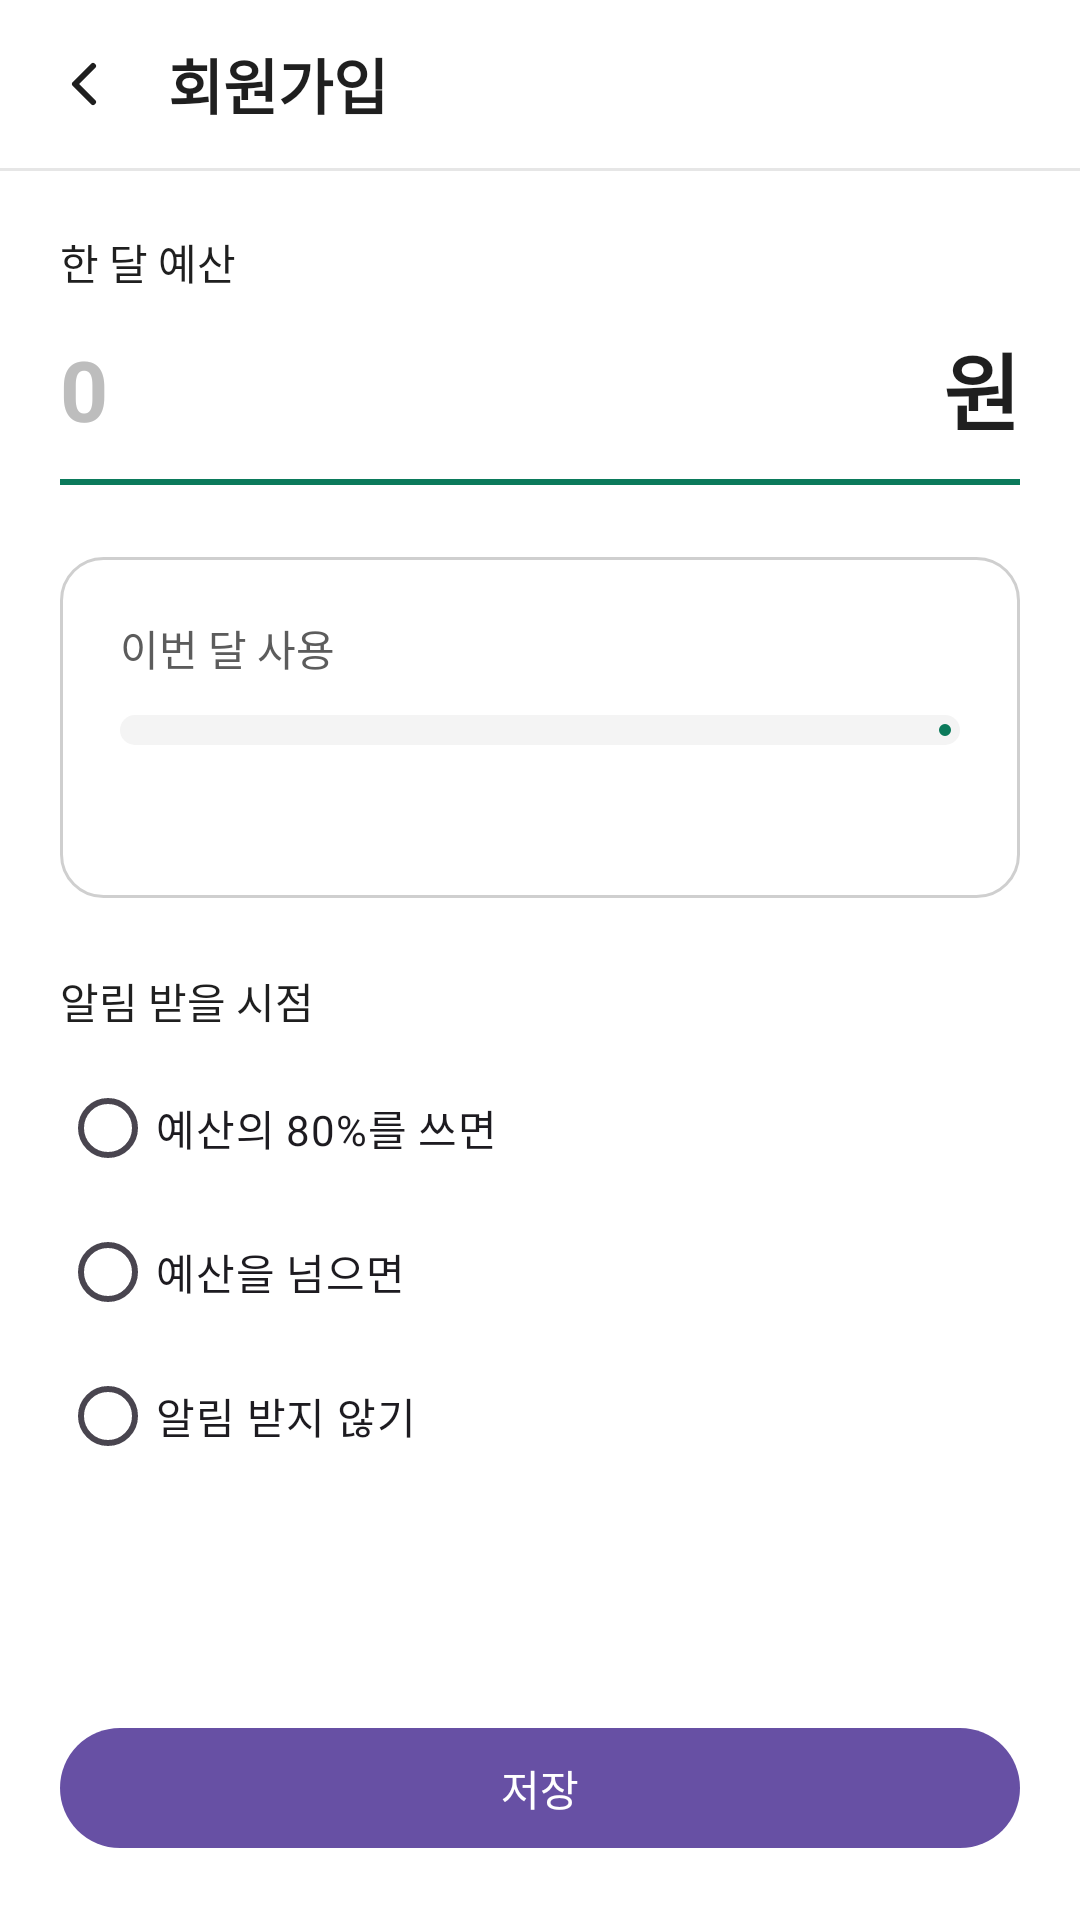

Named icons in this screenshot (1080px x 1920px) and their centers, (x,y):
뒤로 가기: (84,84)
